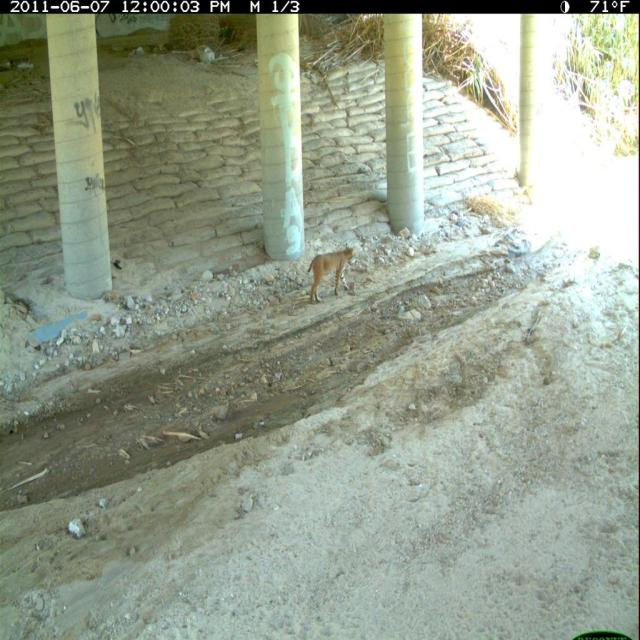bobcat: (304, 238, 360, 307)
